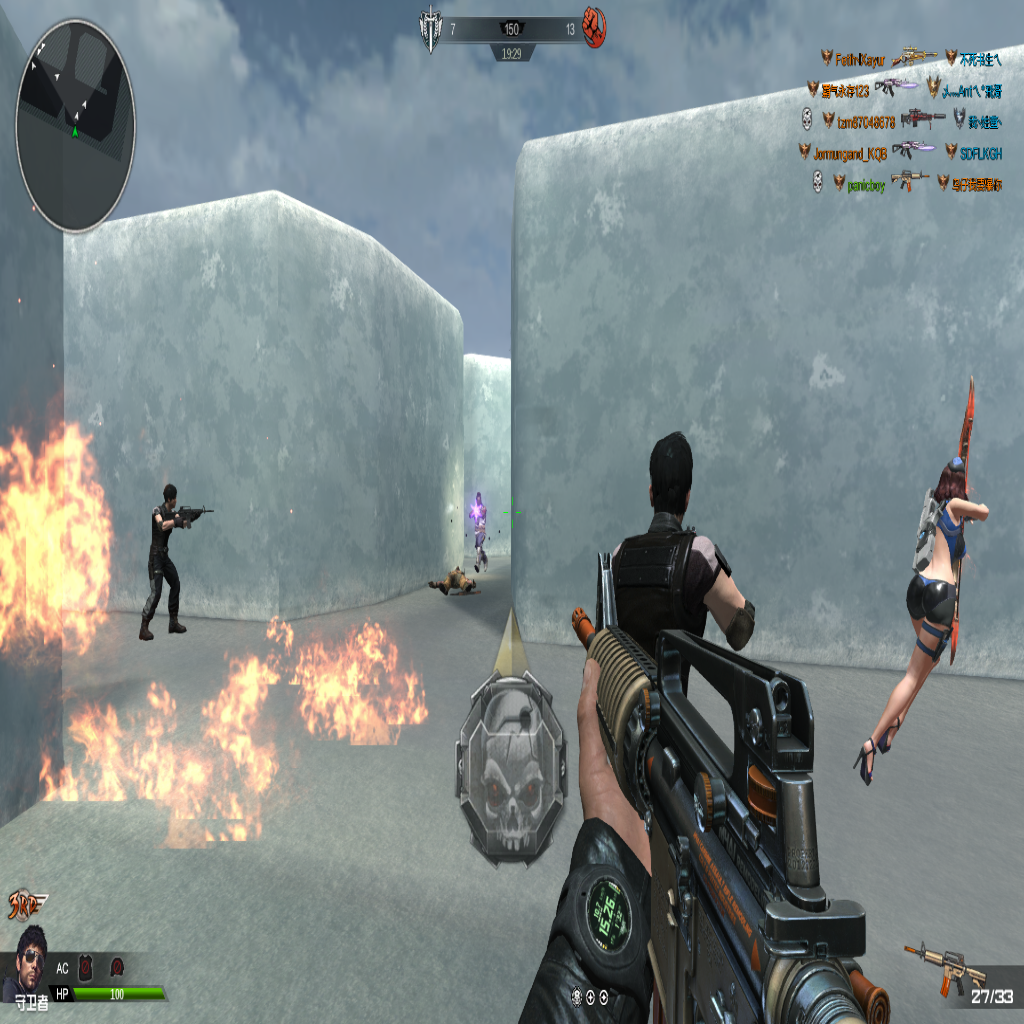ct: (853, 451, 988, 783), (605, 428, 757, 697)
tt: (472, 489, 489, 570)
